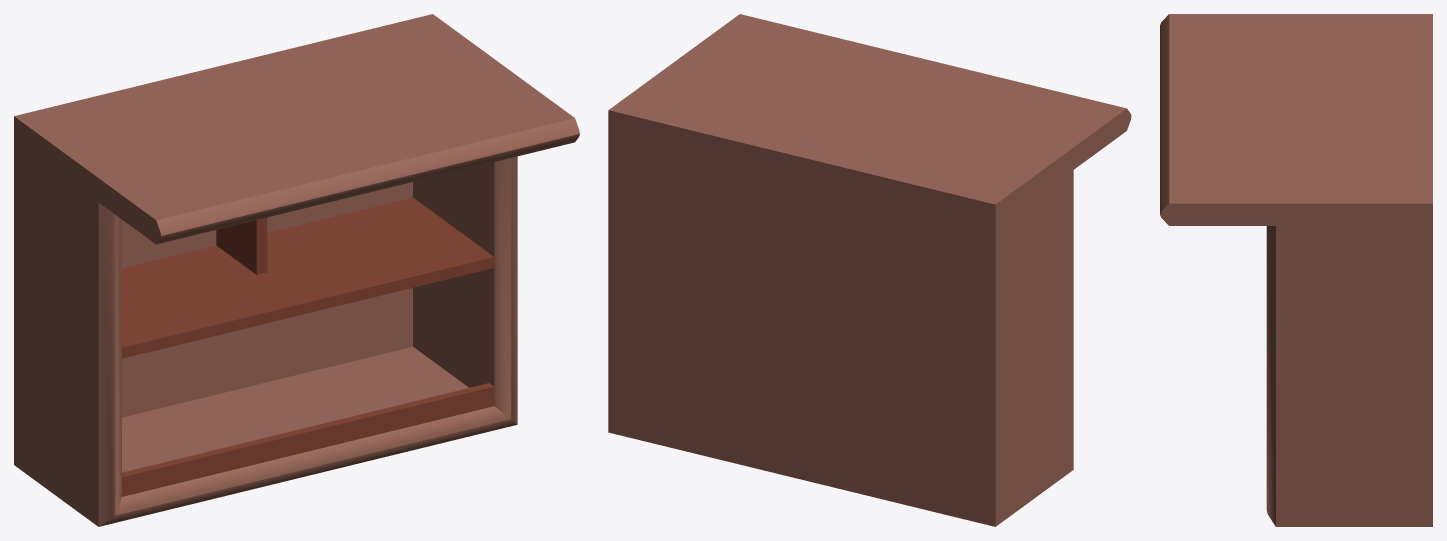
Rendered from bar shelf.fbx.
3 renders of one model, left to right at view 1: azimuth 30°, elevation 25°; view 2: azimuth 150°, elevation 25°; view 3: azimuth 270°, elevation 25°, orthographic. The views are drawn at different scales.
Parts seen in each view (by area): view 1: Cube.006; view 2: Cube.006; view 3: Cube.006.
Part boxes in pixels (x1,y1,x2,y2): Cube.006: (14,14,579,526); Cube.006: (608,14,1131,526); Cube.006: (1160,14,1432,526).
Bounding box in the file's own units: 400 × 318 × 243.
